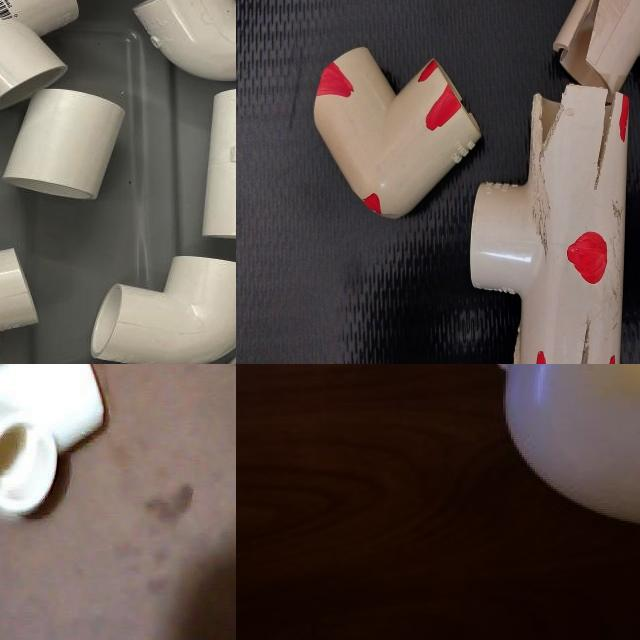Defective: (316, 208, 452, 286), (440, 57, 501, 144), (430, 252, 495, 308), (413, 310, 495, 353), (244, 284, 322, 322), (440, 237, 492, 282), (347, 284, 387, 338), (364, 229, 410, 268), (386, 219, 421, 262), (462, 96, 494, 141), (253, 233, 295, 256), (247, 339, 290, 355), (499, 85, 514, 106), (399, 14, 413, 35), (502, 91, 514, 110)
L Joint: (498, 364, 640, 528), (394, 0, 525, 167), (89, 256, 236, 364)
T Joint: (244, 142, 508, 364), (495, 254, 640, 364), (201, 90, 236, 241)
